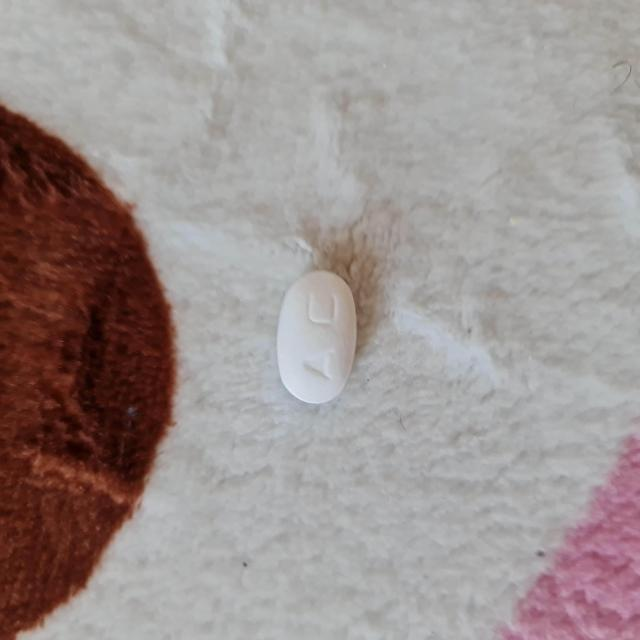pill: (278, 269, 359, 406)
